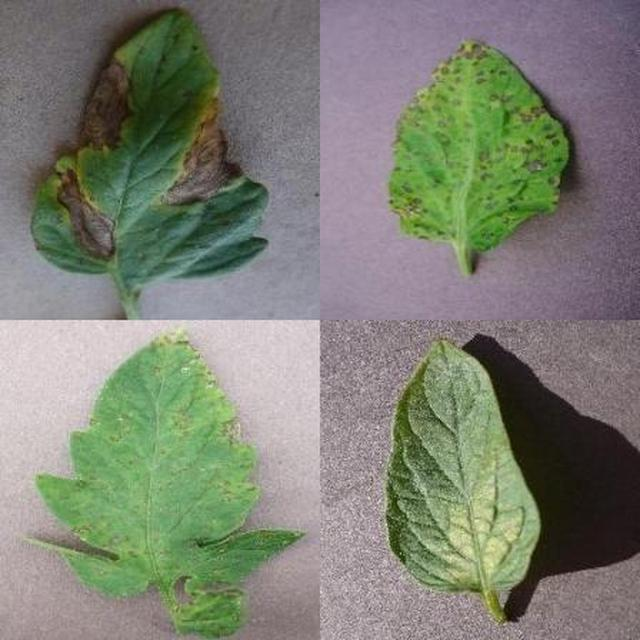Early Blight Leaf: (213, 207, 640, 640)
